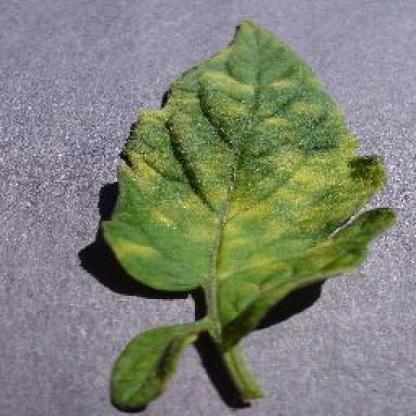Tomato_Leaf_Mold: (99, 20, 393, 323)
